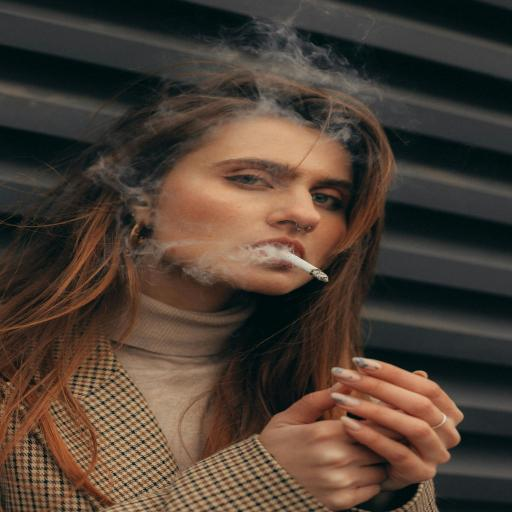terdeteksi merokok: (172, 116, 360, 297)
